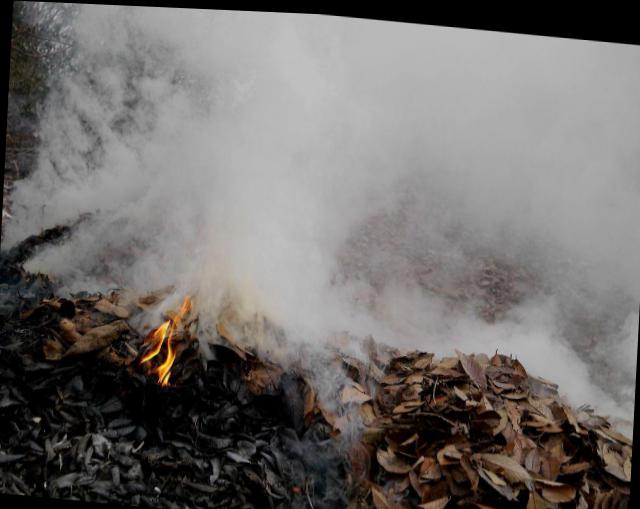fire: (160, 306, 181, 383), (144, 316, 168, 360)
